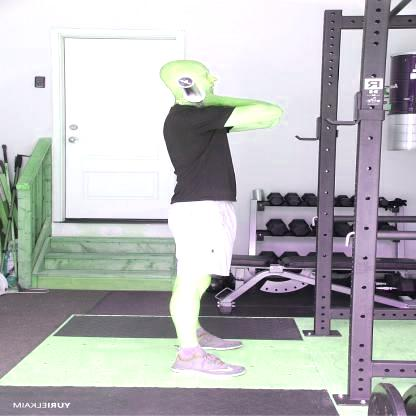Barbell: (172, 75, 196, 90)
